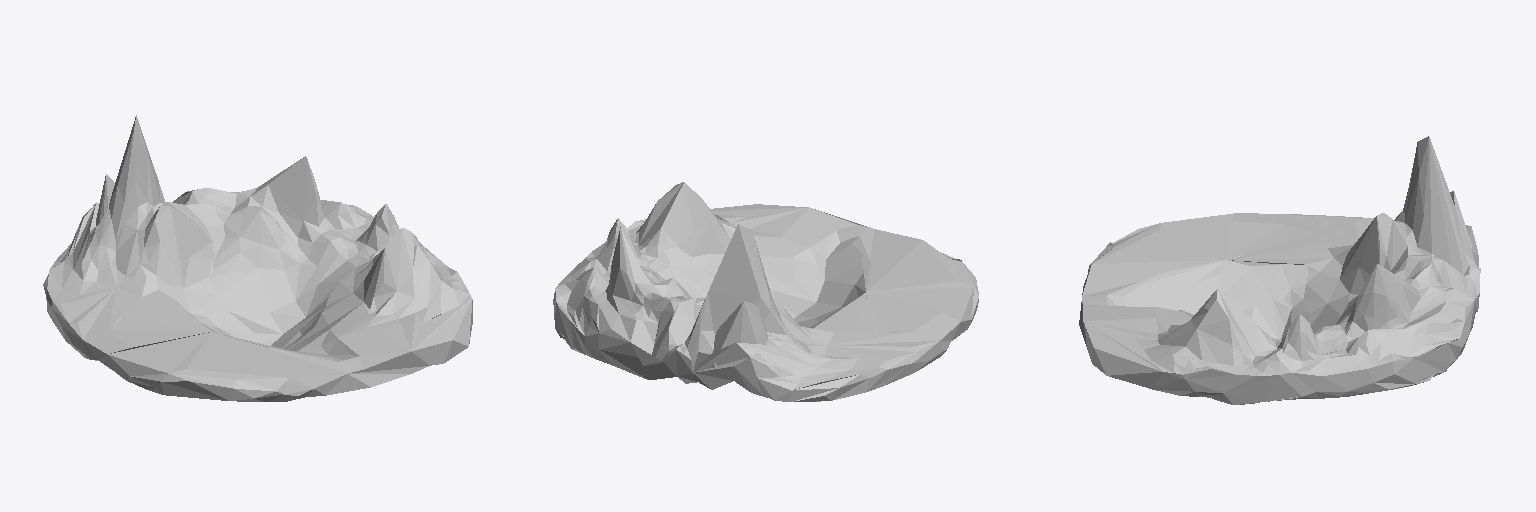
The model's file is C3_above.obj.
3 views of the same model, side by side, from view 1: azimuth 30°, elevation 25°; view 2: azimuth 150°, elevation 25°; view 3: azimuth 270°, elevation 25° (orthographic).
Parts seen in each view (by area): view 1: Куб.001; view 2: Куб.001; view 3: Куб.001.
Boxes of the visible parts, x1=… form: Куб.001: x1=43, y1=115, x2=472, y2=401; Куб.001: x1=553, y1=182, x2=978, y2=401; Куб.001: x1=1079, y1=136, x2=1480, y2=404.
Bounding box in the file's own units: 62.11 × 33.54 × 62.35.